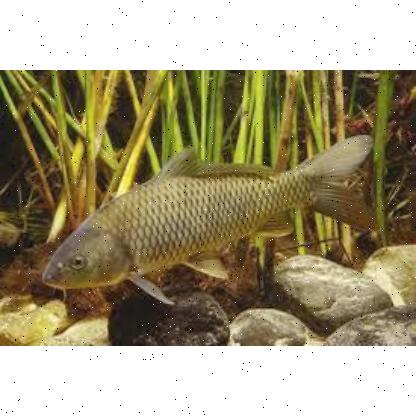ikan-mas: (40, 131, 376, 307)
